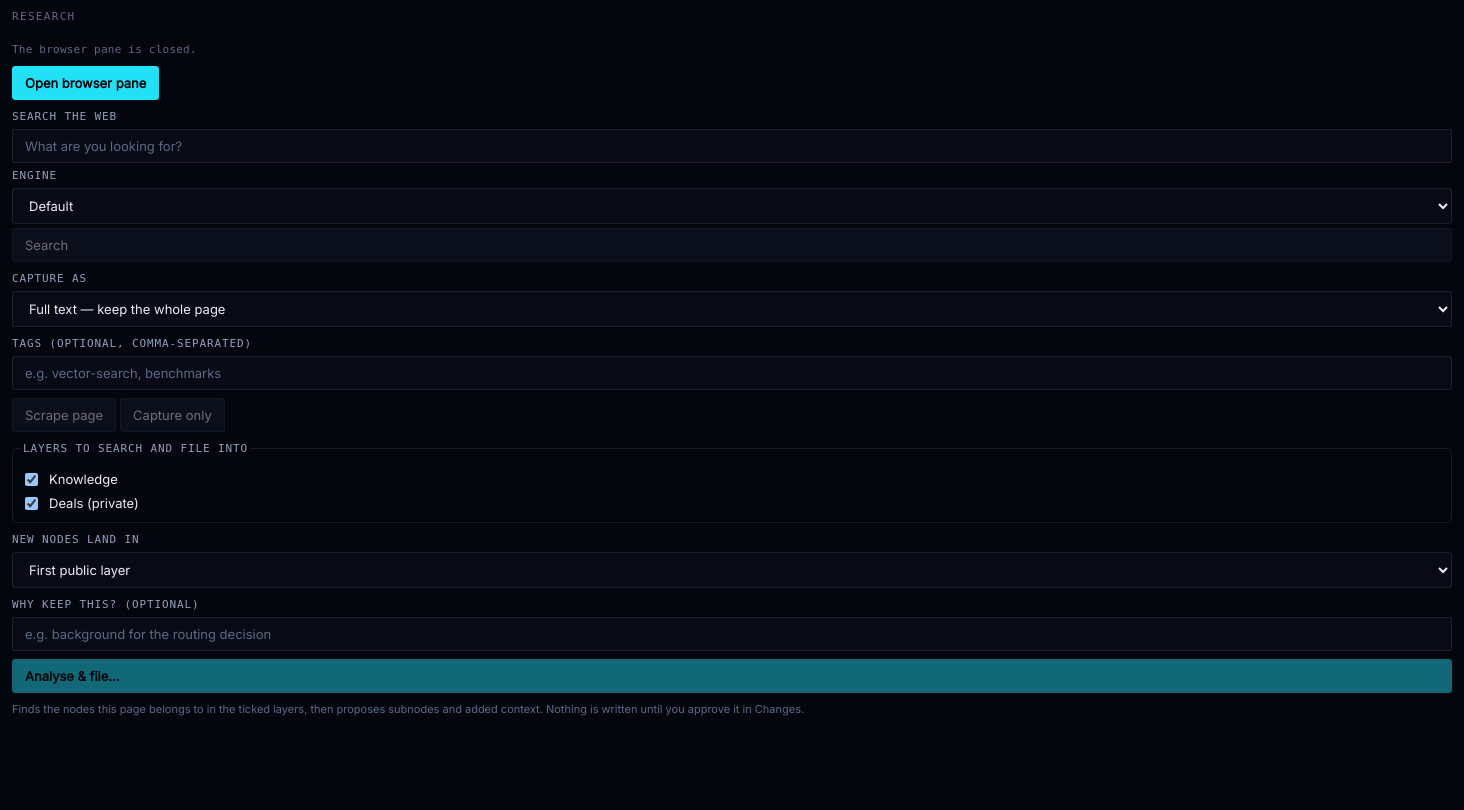
it: BrowserPanel › scrapes without writing a note
The image size is (1464, 810).
Check: the text "The browser pane is closed." is shown, box x1=12 y1=43 x2=197 y2=56
Click the button "Open browser pane". click: (86,83)
box: x1=12 y1=66 x2=159 y2=100
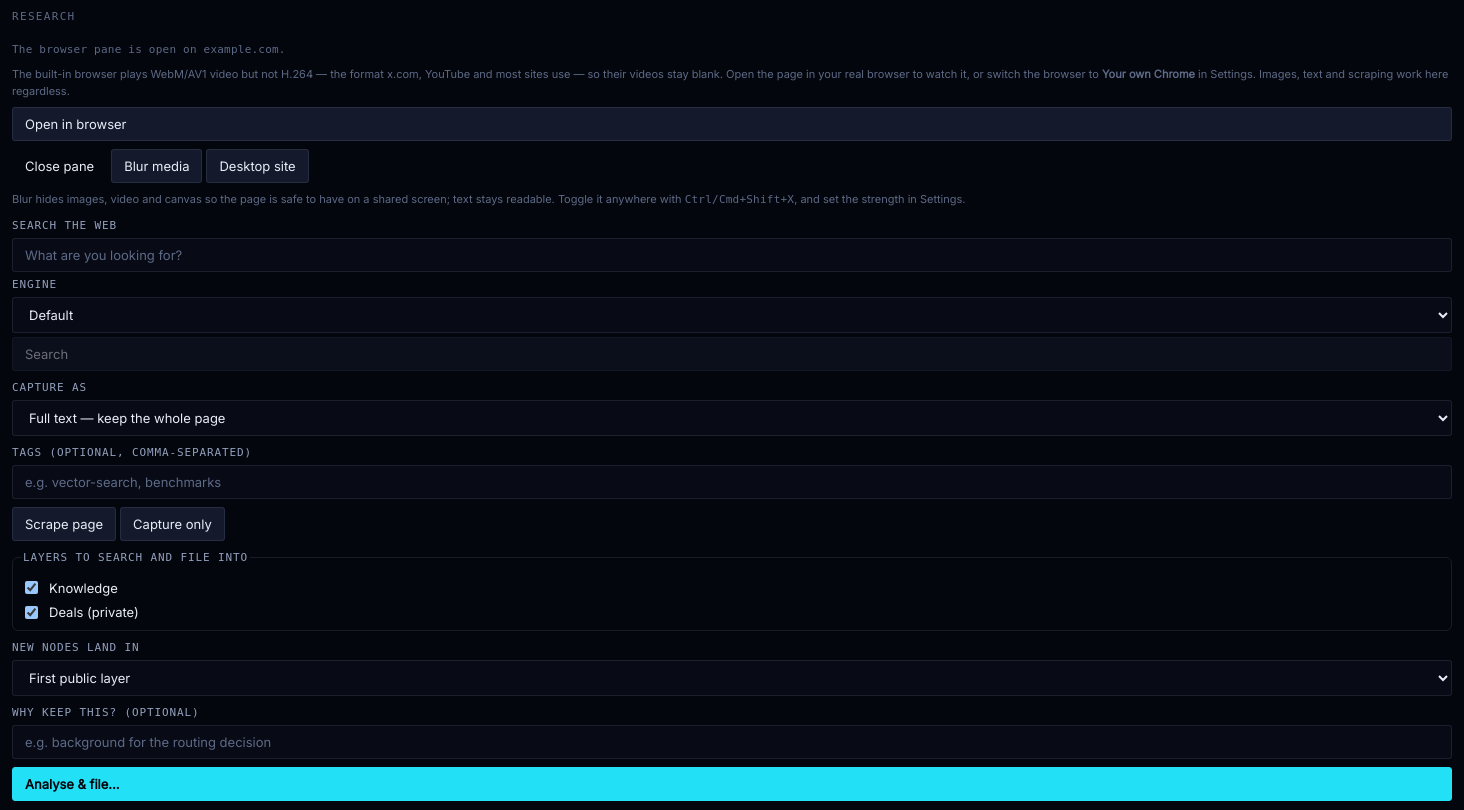
Click the button "Scrape page". click: (64,524)
box: x1=12 y1=507 x2=116 y2=541
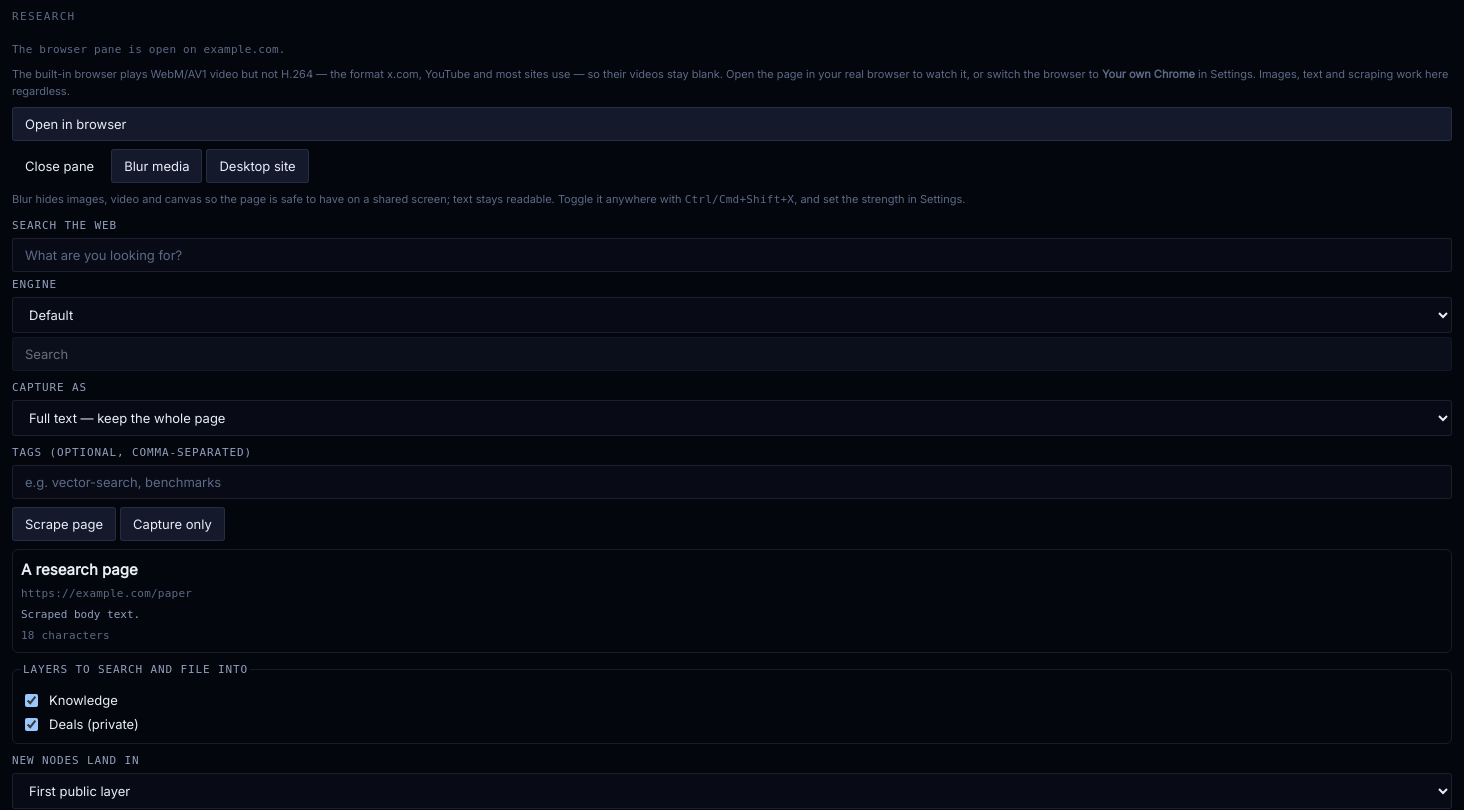
Check: the text "Scraped body text." is shown, box x1=21 y1=608 x2=140 y2=621
Check: the text "18 characters" is shown, box x1=21 y1=629 x2=110 y2=642
